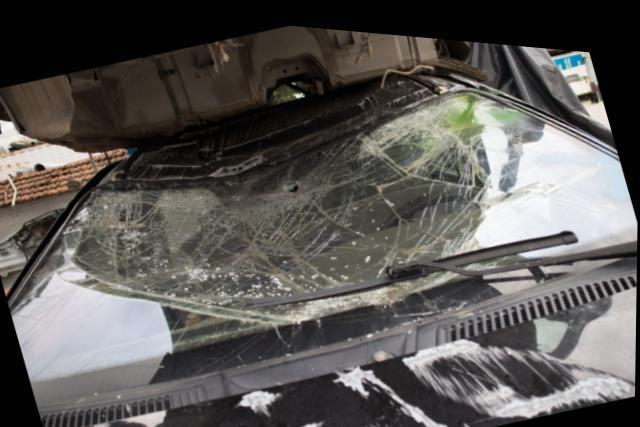glass shatter: (11, 83, 638, 403)
scratch: (234, 328, 636, 427)
